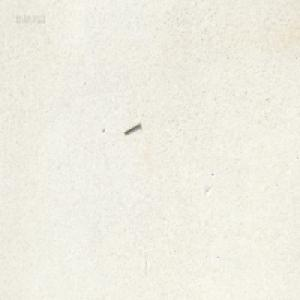Bolt: (123, 121, 140, 134)
